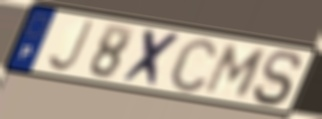8: (87, 23, 133, 80)
C: (167, 36, 219, 95)
J: (45, 18, 96, 73)
M: (201, 42, 270, 99)
S: (250, 49, 305, 108)
X: (119, 27, 186, 90)
